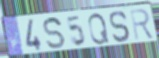4: (24, 19, 43, 54)
5: (65, 14, 86, 48)
Q: (87, 12, 110, 46)
R: (129, 8, 155, 42)
S: (43, 16, 66, 51), (109, 10, 132, 44)
